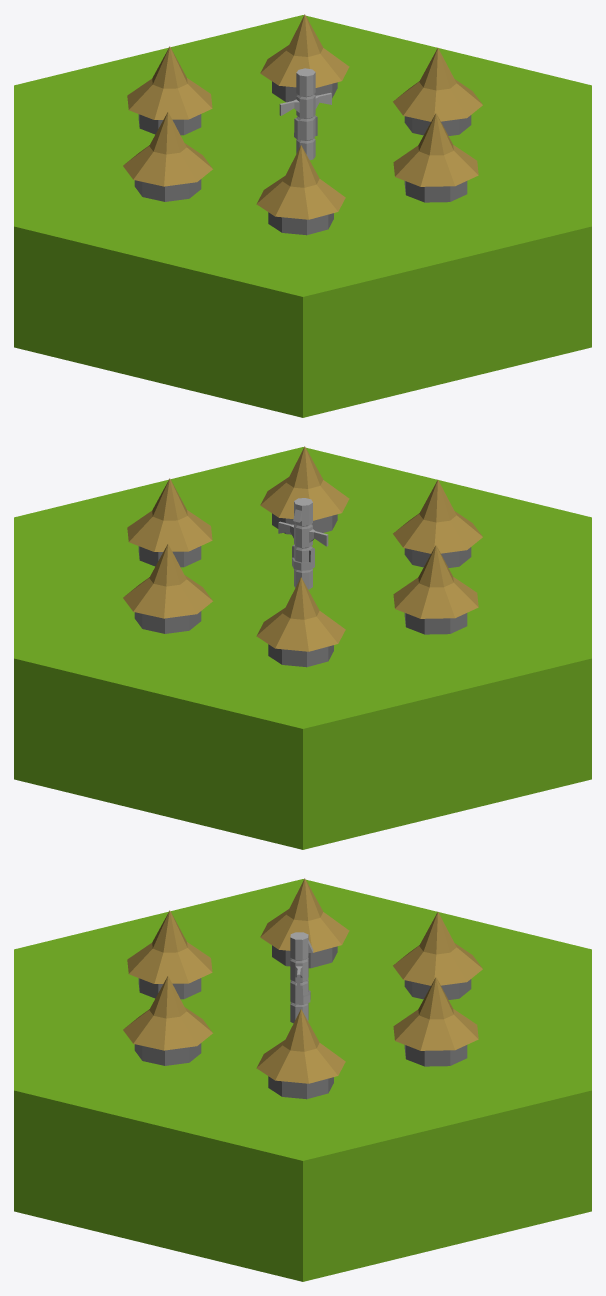
File: Pequeño_Asentamiento_3.fbx
3 views of the same model, one above another, from view 1: azimuth 30°, elevation 25°; view 2: azimuth 150°, elevation 25°; view 3: azimuth 270°, elevation 25° (orthographic).
Visible parts, largest first — view 1: Pequeño_asentamiento_3; view 2: Pequeño_asentamiento_3; view 3: Pequeño_asentamiento_3.
Part boxes in pixels (x1,y1,x2,y2): Pequeño_asentamiento_3: (14, 14, 591, 417); Pequeño_asentamiento_3: (14, 446, 591, 849); Pequeño_asentamiento_3: (14, 878, 591, 1281).
Size of the model in its own units: 200 by 67.95 by 173.
1 material, 1 textured.
